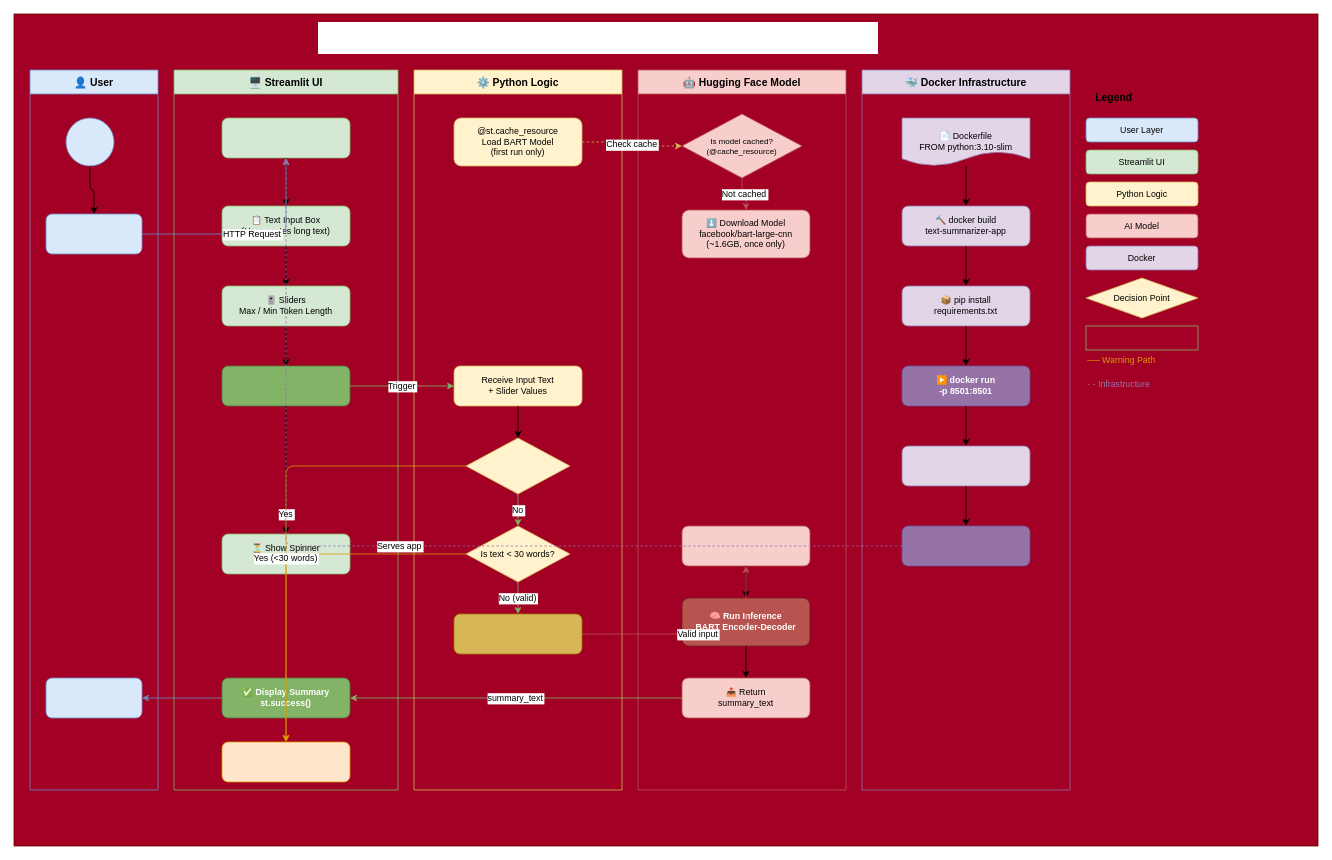
Some shapes in this 1332 by 860 pixel diagram are drawn without their labels. The centre of each missing label's shape, as x and y in pixels:
"Is text empty?" goes at (x=517, y=465).
"Opens Browser localhost:8501" goes at (x=93, y=233).
"Reads Summary Output" goes at (x=93, y=697).
"Streamlit App Loads (app.py runs)" goes at (x=285, y=137).
"Text Summarizer App— End-to-End Flow" goes at (x=598, y=38).
"User" goes at (x=89, y=141).
"── Happy Path" goes at (x=1141, y=337).
"⚠️ Show Warning st.warning()" goes at (x=285, y=761).
"✅ Valid Input Pass to Model" goes at (x=517, y=633).
"🔌 Port Mapping host:8501 → container:8501" goes at (x=965, y=465).
"🔤 Tokenize Input Text" goes at (x=745, y=545).
"🚀 Streamlit Serves on 0.0.0.0:8501" goes at (x=965, y=545).
"🟢 Click 'Summarize' Button" goes at (x=285, y=385).
